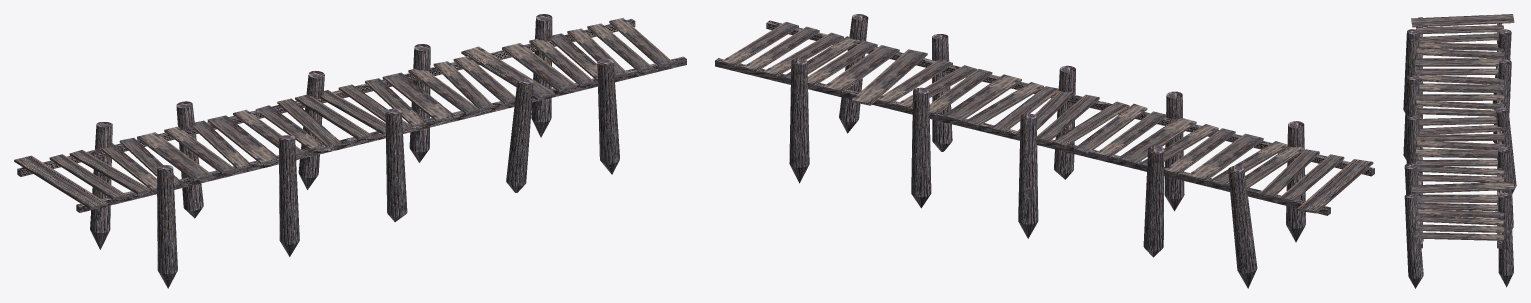
File: bridge.glb
3 renders of one model, left to right at view 1: azimuth 30°, elevation 25°; view 2: azimuth 150°, elevation 25°; view 3: azimuth 270°, elevation 25°, orthographic. The views are drawn at different scales.
Parts seen in each view (by area): view 1: Cube.006, Cylinder.009; view 2: Cube.006, Cylinder.009; view 3: Cube.006, Cylinder.009.
Boxes of the visible parts, x1,y1,x2,y2 form: Cube.006: [14, 18, 686, 212]; Cylinder.009: [90, 14, 619, 288]; Cube.006: [715, 20, 1374, 215]; Cylinder.009: [789, 14, 1305, 288]; Cube.006: [1411, 14, 1514, 248]; Cylinder.009: [1403, 29, 1516, 288].
Size of the model in its own units: 12.11 by 2.29 by 2.53.
Materials: 2 (2 with a texture image).
